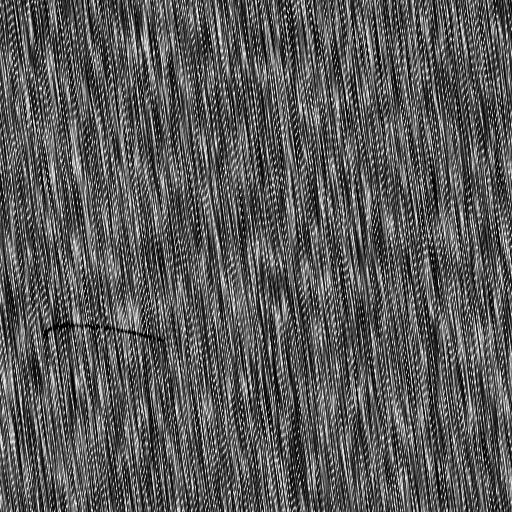DefectTypeC: (42, 318, 166, 350)
